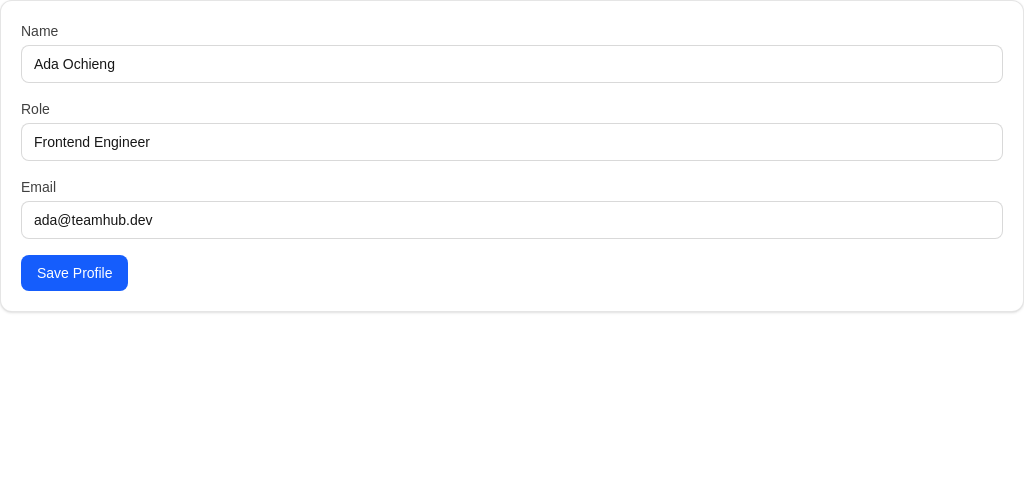
EditProfileForm › shows success on valid input
Replace the text in the field labelled "Name" with "Ada Updated" at (512, 64), box [21,45,1003,83]
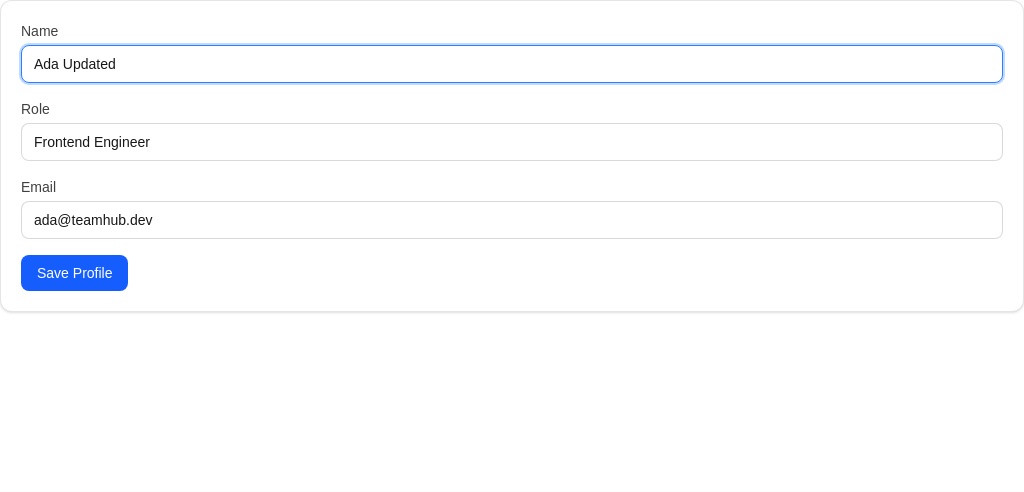
Replace the text in the field labelled "Email" with "ada@example.com" at (512, 220), box [21,201,1003,239]
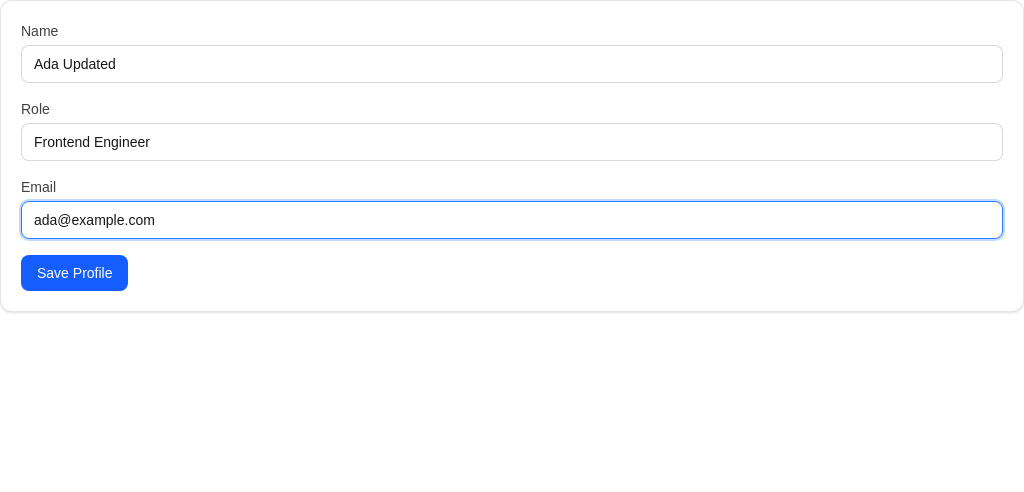
Click the button "Save Profile".
click(75, 273)  # box [21,255,128,291]
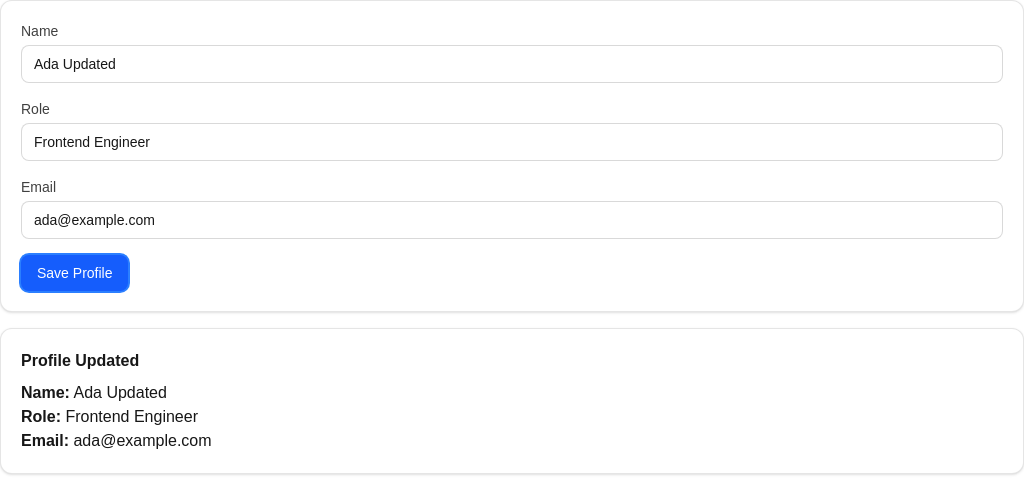
Result: the heading "Profile Updated" is shown at [21,352,139,369]
Result: the text "Ada Updated" is shown at [74,384,167,401]
Result: the text "ada@example.com" is shown at [74,432,212,449]
